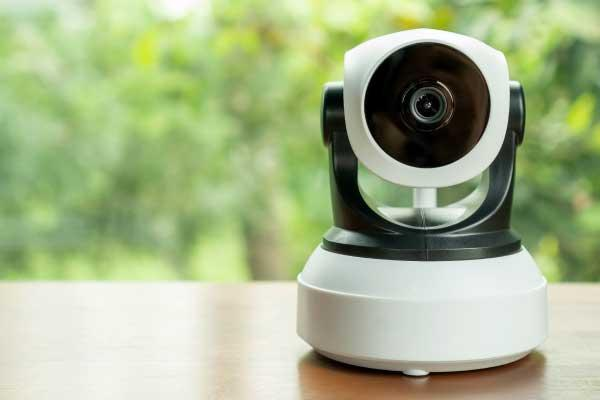maru: (338, 22, 528, 191)
